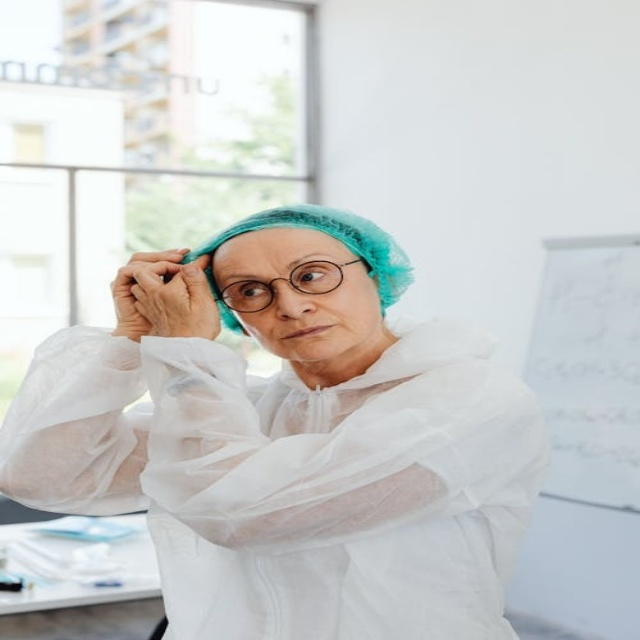Gafas: (214, 256, 365, 314)
Sin_guantes: (114, 250, 222, 343)
Sin_mascara: (270, 323, 349, 358)
